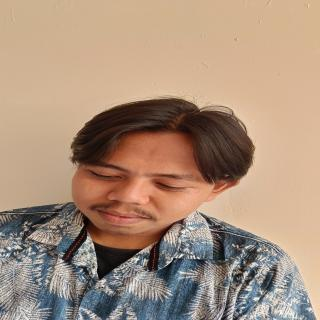Sedih: (67, 116, 225, 243)
